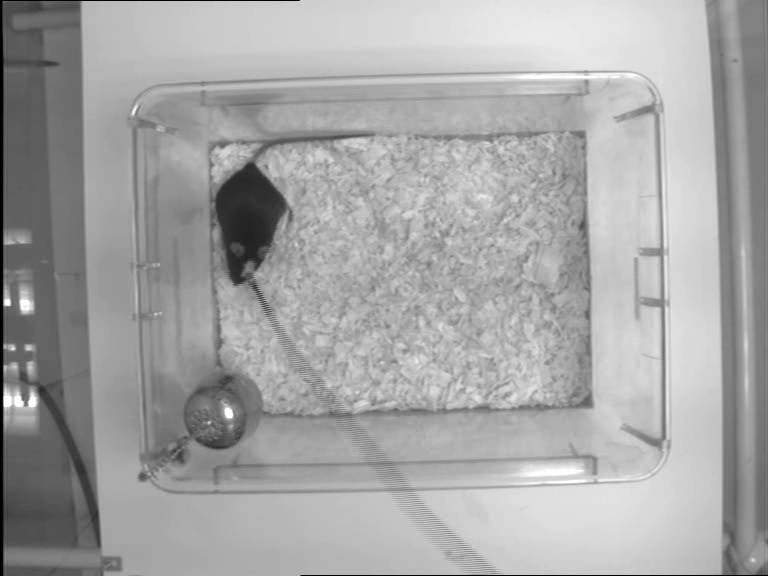mice: (210, 131, 375, 289)
